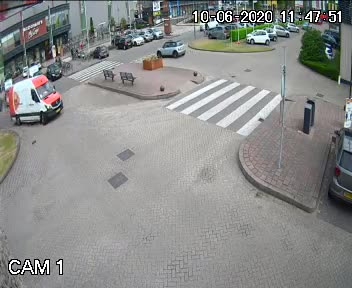car: (0, 72, 73, 130), (142, 38, 189, 58), (195, 17, 218, 30)
